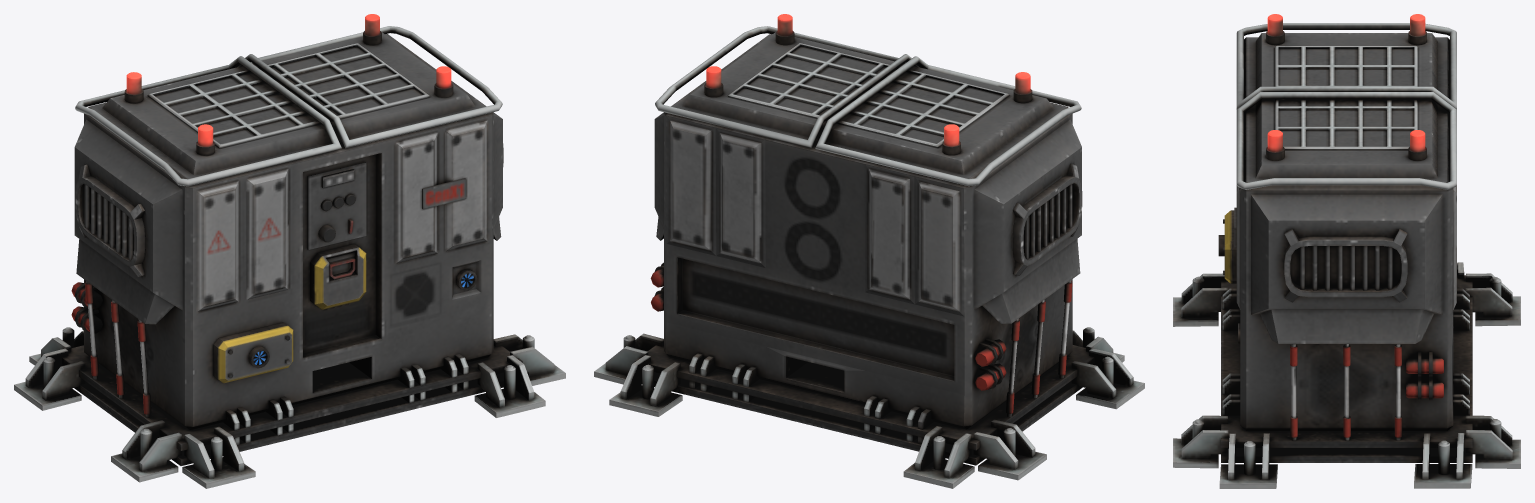
Rendered from generador.glb.
The picture shows the model from 3 angles, left to right: view 1: azimuth 30°, elevation 25°; view 2: azimuth 150°, elevation 25°; view 3: azimuth 270°, elevation 25°; orthographic projection.
Visible parts, largest first — view 1: Object_2; view 2: Object_2; view 3: Object_2.
Boxes of the visible parts, bbox=[...] form: Object_2: bbox=[14, 14, 565, 488]; Object_2: bbox=[594, 14, 1144, 488]; Object_2: bbox=[1173, 14, 1520, 488].
Size of the model in its own units: 414 by 290 by 294.
1 material, 1 textured.
